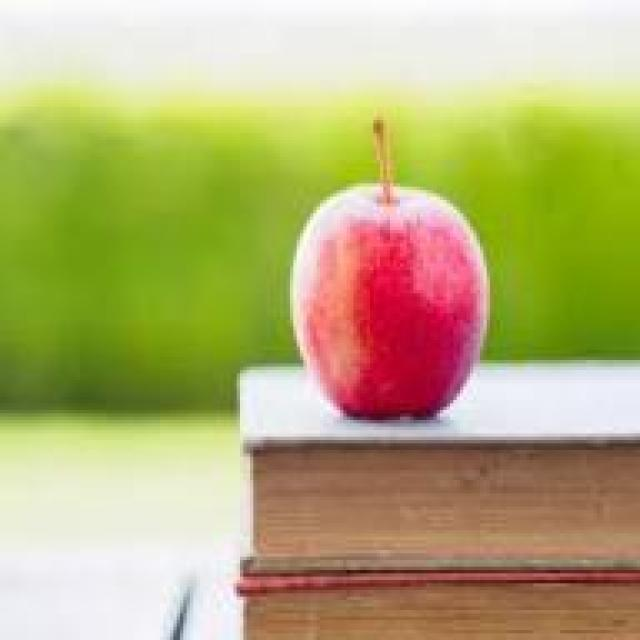apple: (290, 177, 497, 390)
